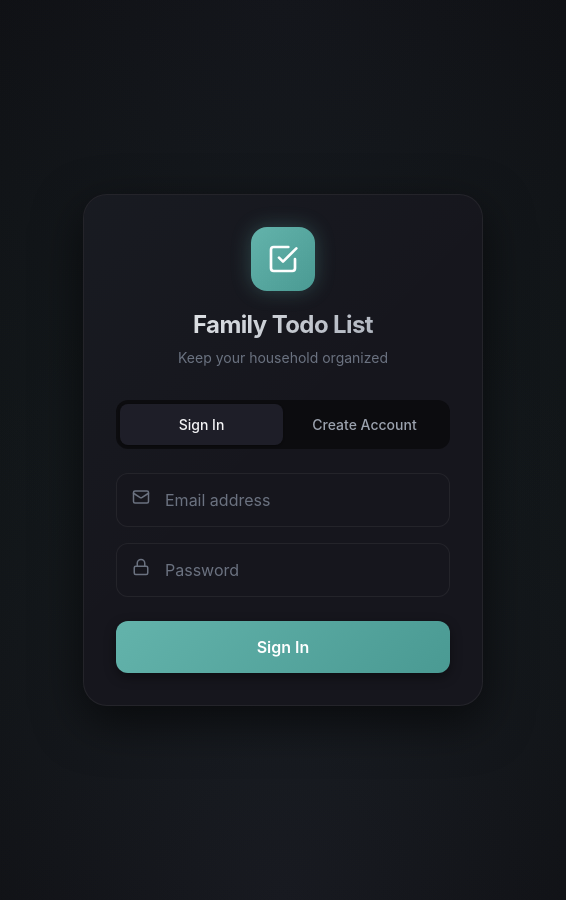
LoginPage › login submission › should display error message on login failure
Step 1. Type "test@example.com" into the field with placeholder "Email address" → (283, 500), box [116,473,450,527]
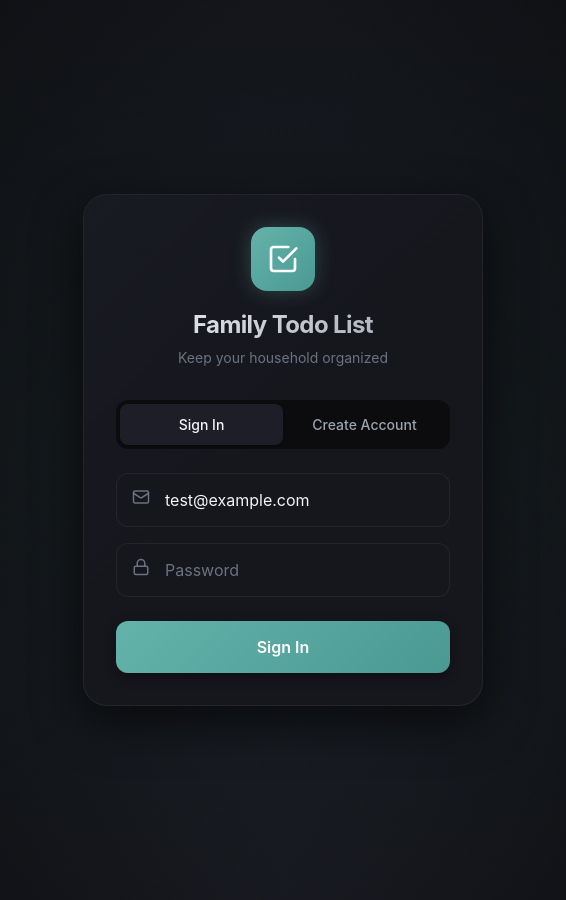
Step 2. Type "wrongpassword" into the password field with placeholder "Password" → (283, 570), box [116,543,450,597]
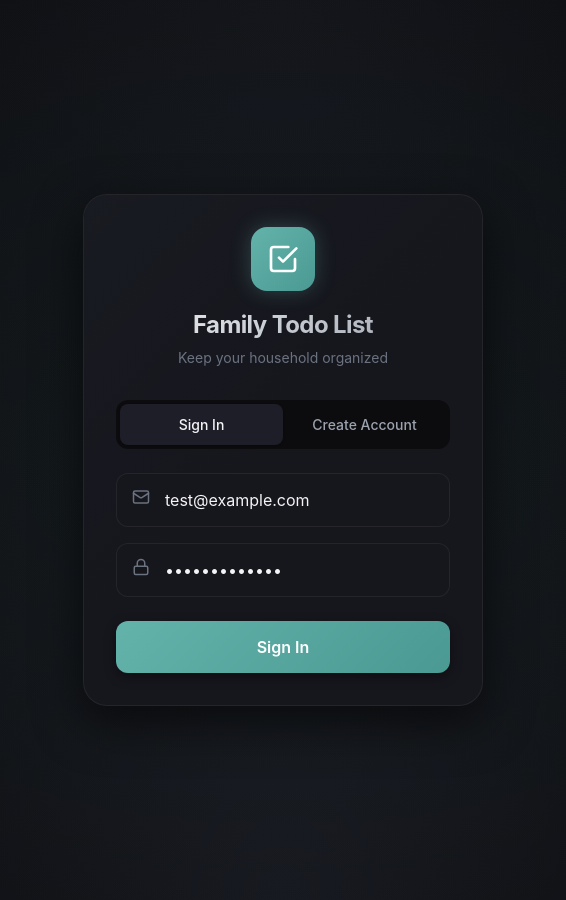
Step 3. Click the 2nd button "Sign In" → (283, 647), box [116,621,450,673]
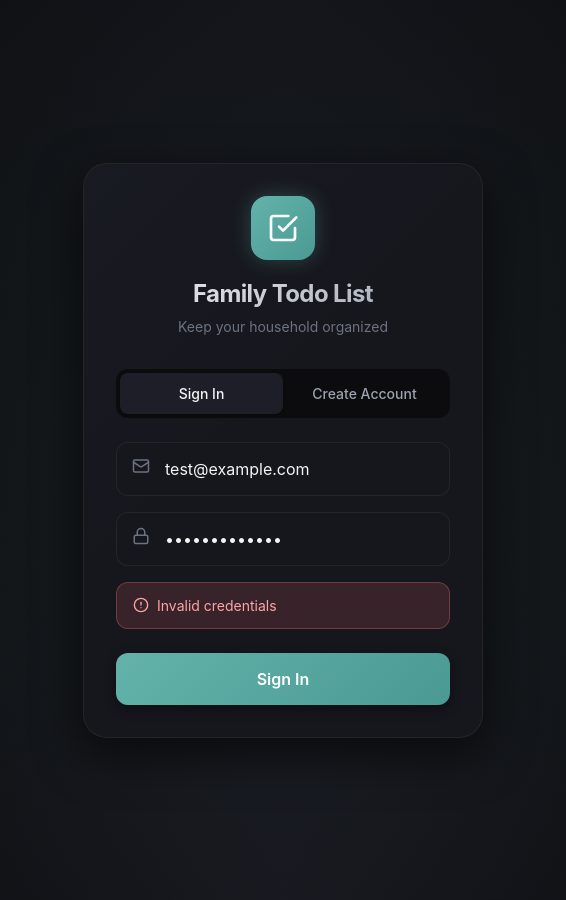
Expected: the text "Invalid credentials" is shown, [116,582,450,628]
